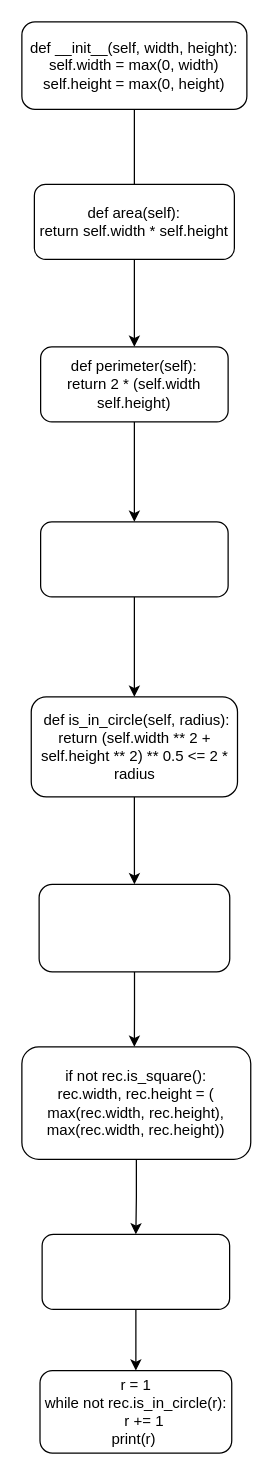
This 274x1475 diagram has some shape labels left out. The shapes that lost their labels are listed below. From the top down, each one's box as (x1, y1, x2, y2) in pixels, then its label:
(39, 521, 228, 597): def is_square(self): return self.width == self.height
(38, 883, 230, 972): rec = Rectangle(5, 3) print(rec.area()) print(rec.perimeter())
(41, 1233, 230, 1309): print(rec.area()) print(rec.perimeter())
